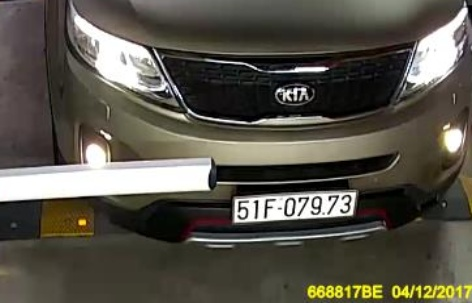plate: (228, 186, 364, 226)
